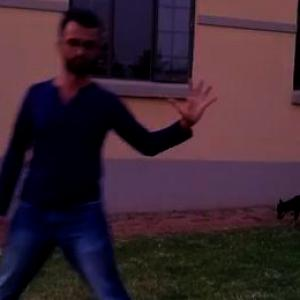follow_hand: (167, 72, 220, 124)
